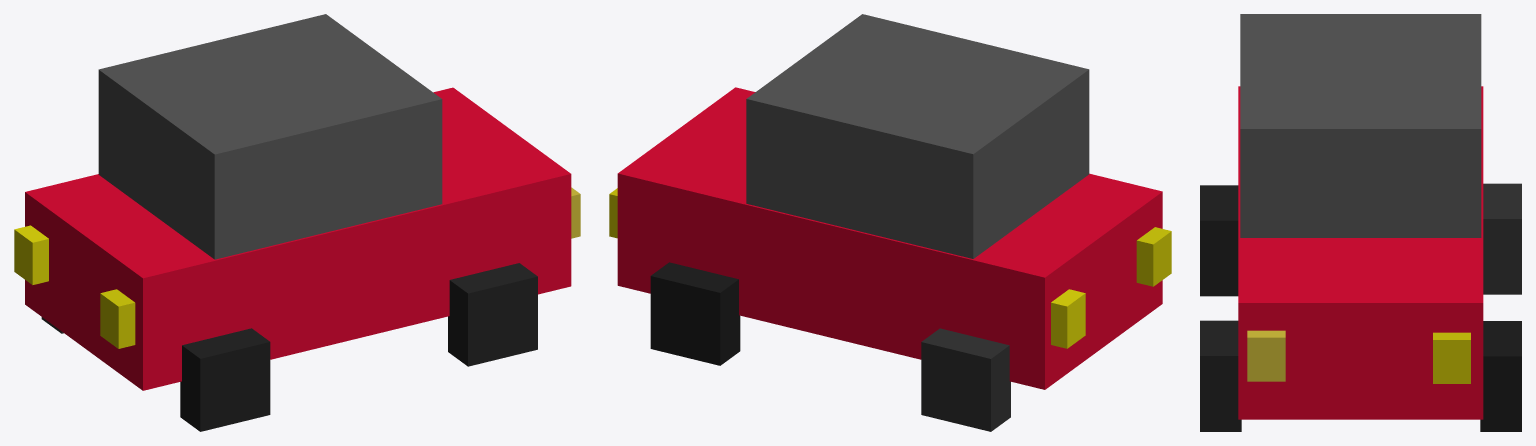
The model's file is car1.glb.
3 views of the same model, side by side, from view 1: azimuth 30°, elevation 25°; view 2: azimuth 150°, elevation 25°; view 3: azimuth 270°, elevation 25° (orthographic). The views are drawn at different scales.
Visible parts, largest first — view 1: Cube, Куб, Куб.001, Куб.002, Куб.008, Куб.007; view 2: Cube, Куб, Куб.003, Куб.004, Куб.008, Куб.007; view 3: Куб, Cube, Куб.002, Куб.003, Куб.004, Куб.001, Куб.005, Куб.006.
Part boxes in pixels (x1,y1,x2,y2): Cube: (25,87,571,390); Куб: (98,14,442,259); Куб.001: (180,328,270,431); Куб.002: (448,263,537,366); Куб.008: (100,289,135,348); Куб.007: (14,225,48,284); Cube: (617,87,1162,389); Куб: (746,14,1089,258); Куб.003: (650,262,740,365); Куб.004: (921,328,1010,431); Куб.008: (1136,227,1171,286); Куб.007: (1051,289,1085,348); Куб: (1240,14,1481,237); Cube: (1238,86,1483,419); Куб.002: (1200,320,1241,431); Куб.003: (1480,321,1521,431); Куб.004: (1483,183,1521,294); Куб.001: (1200,185,1238,296); Куб.005: (1247,330,1285,381); Куб.006: (1433,332,1470,383).
Bounding box in the file's own units: 8.54 × 4.53 × 5.
